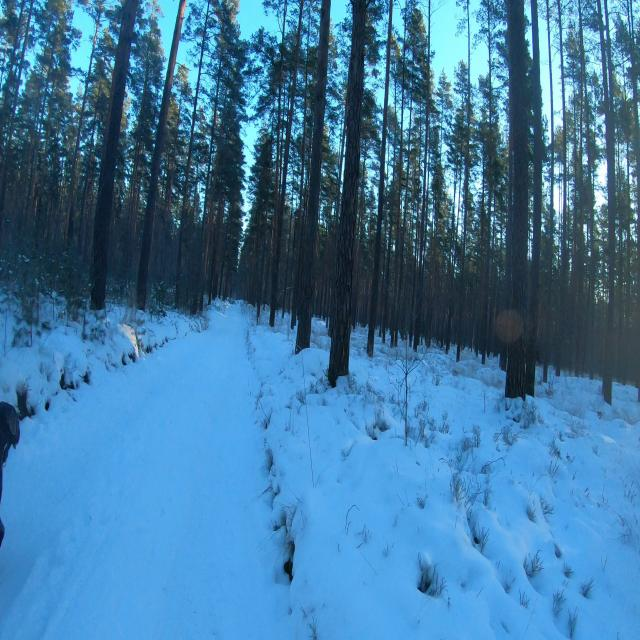bush: (0, 244, 88, 345), (396, 341, 424, 446), (18, 273, 38, 345)
trees: (136, 0, 186, 310), (91, 0, 139, 310), (328, 0, 366, 386), (296, 0, 330, 353), (175, 0, 209, 305), (366, 0, 393, 357), (505, 0, 529, 400), (64, 4, 102, 246), (269, 33, 300, 327), (597, 0, 616, 404), (526, 0, 542, 395), (578, 0, 595, 340), (245, 127, 274, 309), (623, 0, 640, 305), (456, 0, 470, 361), (27, 10, 53, 193), (272, 0, 288, 253), (8, 1, 34, 156), (482, 0, 493, 364), (556, 0, 568, 329), (33, 29, 57, 187), (79, 88, 100, 263), (418, 0, 430, 301), (430, 106, 446, 330), (390, 110, 403, 347), (200, 151, 219, 311), (545, 0, 555, 302), (203, 59, 221, 216), (555, 144, 567, 376), (290, 164, 306, 330), (3, 3, 25, 108), (43, 58, 58, 191), (199, 132, 213, 258), (334, 115, 346, 246), (486, 0, 493, 217), (380, 218, 392, 343), (382, 0, 393, 134), (130, 162, 143, 273), (210, 196, 224, 298), (298, 66, 307, 222), (136, 46, 150, 146), (47, 155, 57, 244), (165, 153, 176, 223), (625, 201, 631, 323), (1, 153, 10, 225), (547, 2, 552, 87), (561, 76, 566, 143), (256, 280, 262, 323), (561, 332, 569, 362), (556, 9, 562, 47), (418, 302, 426, 324), (301, 129, 306, 160), (590, 351, 596, 376), (132, 157, 138, 182), (304, 58, 308, 91), (542, 363, 548, 383), (176, 102, 181, 126), (414, 324, 422, 337), (401, 75, 404, 109), (202, 255, 207, 274), (303, 98, 306, 126), (196, 297, 202, 311), (369, 332, 373, 347), (626, 183, 629, 201), (388, 200, 391, 216), (197, 267, 201, 279), (130, 196, 133, 204)
